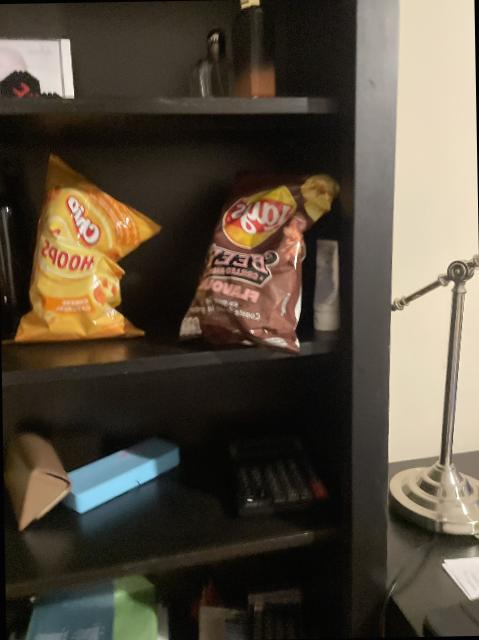Chio Hula Hoops Cheese 70g: (0, 150, 150, 344)
Lays Beef Grilled Ribs 125g: (172, 172, 344, 354)
